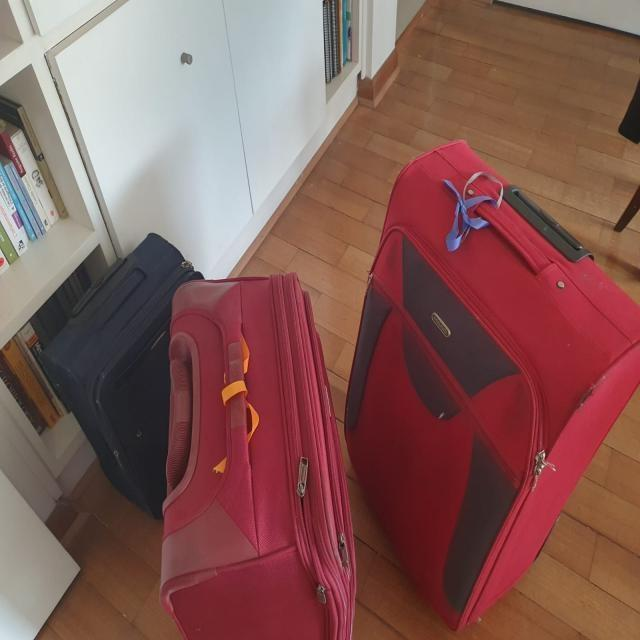Suitcase: (342, 134, 640, 635), (158, 275, 358, 640), (44, 230, 209, 524)
